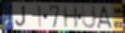7: (49, 5, 60, 29)
A: (96, 5, 114, 30)
H: (63, 6, 80, 29)
I: (37, 5, 43, 29)
J: (14, 5, 27, 28)
U: (81, 5, 97, 30)
